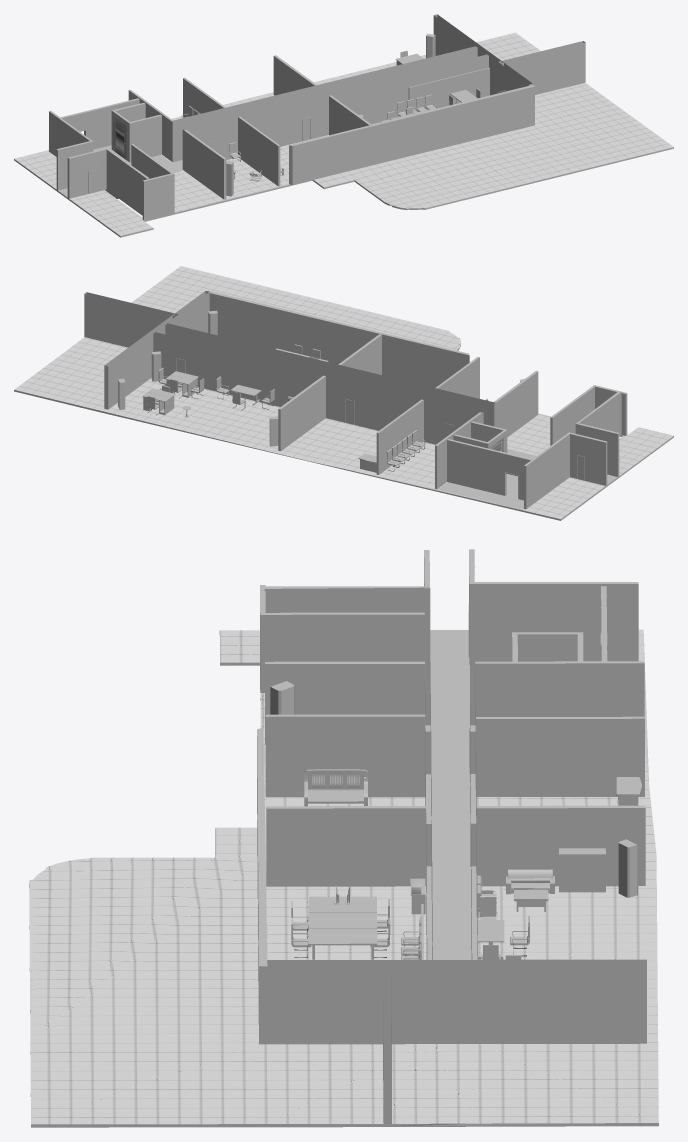
The model's file is floor2.DAE.
3 renders of one model, top to bottom at view 1: azimuth 30°, elevation 25°; view 2: azimuth 150°, elevation 25°; view 3: azimuth 270°, elevation 25°, orthographic. The views are drawn at different scales.
Parts seen in each view (by area): view 1: FBXASC050D, object142, object126, object122, object146, object141, object153, object139, GZ0P004, object155, object113, object130 (+11 smaller); view 2: FBXASC050D, object122, object142, object126, object146, object141, object130, object133, object116, object153, object137, object110 (+8 smaller); view 3: FBXASC050D, object141, object137, object135, object139, object116, object133, object118, object154, object153, object144, object155 (+13 smaller).
Part boxes in pixels (x1,y1,x2,y2): FBXASC050D: (14,32,673,237); object142: (289,85,534,184); object126: (182,54,488,170); object122: (171,46,477,162); object146: (498,41,585,94); object141: (433,14,532,95); object153: (184,130,226,199); object139: (238,116,280,186); GZ0P004: (408,67,489,111); object155: (105,148,149,215); object113: (67,148,107,198); object130: (60,98,139,149); FBXASC050D: (14,266,673,520); object122: (153,332,483,444); object142: (207,290,469,387); object126: (165,323,495,426); object146: (84,292,178,347); object141: (104,290,209,409); object130: (447,439,532,500); object133: (278,375,325,451); object116: (524,433,569,509); object153: (493,370,538,437); object137: (376,399,423,474); object110: (568,432,607,485); FBXASC050D: (29,629,658,1127); object141: (267,959,646,1044); object137: (476,716,644,796); object135: (266,806,425,886); object139: (265,714,425,797); object116: (474,582,638,661); object133: (476,805,645,886); object118: (475,661,644,716); object154: (264,612,424,661); object153: (265,661,424,744); object144: (267,962,382,1044); object155: (264,586,429,612).
Bounding box in the file's own units: 50.08 × 3.96 × 26.94.
